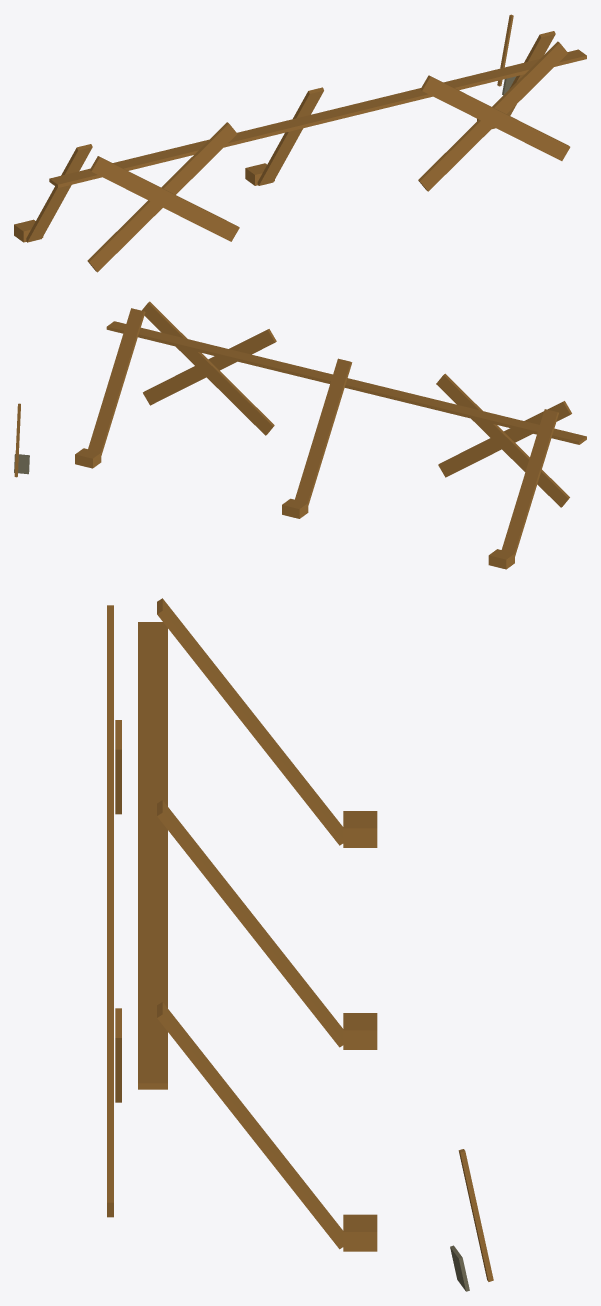
The model's file is SM_ObraPuertaApuntalada_v3_10m_LOD0.fbx.
3 renders of one model, top to bottom at view 1: azimuth 30°, elevation 25°; view 2: azimuth 150°, elevation 25°; view 3: azimuth 270°, elevation 25°, orthographic. The views are drawn at different scales.
Visible parts, largest first — view 1: SM_obra_curso_v37_LOD0; view 2: SM_obra_curso_v37_LOD0; view 3: SM_obra_curso_v37_LOD0.
Part boxes in pixels (x1,y1,x2,y2): SM_obra_curso_v37_LOD0: [14, 14, 586, 272]; SM_obra_curso_v37_LOD0: [14, 301, 586, 569]; SM_obra_curso_v37_LOD0: [107, 598, 493, 1291].
Size of the model in its own units: 8.32 by 1.92 by 2.83.
